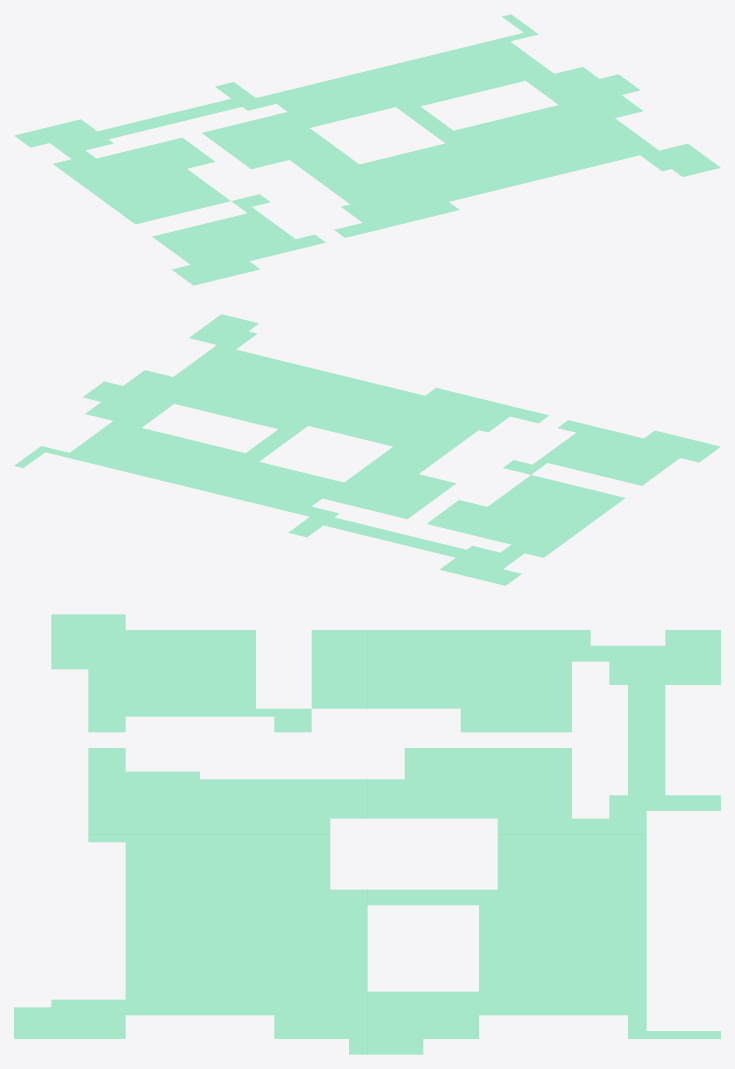
The model's file is navmesh.glb.
The picture shows the model from 3 angles, top to bottom: view 1: azimuth 30°, elevation 25°; view 2: azimuth 150°, elevation 25°; view 3: azimuth 270°, elevation 25°; orthographic projection. The views are drawn at different scales.
Parts seen in each view (by area): view 1: NAVMESH; view 2: NAVMESH; view 3: NAVMESH.
Boxes of the visible parts, <box> form: NAVMESH: <box>14,14,720,285</box>; NAVMESH: <box>14,314,720,585</box>; NAVMESH: <box>14,614,720,1054</box>.
Bounding box in the file's own units: 14 × 0 × 9.5.
